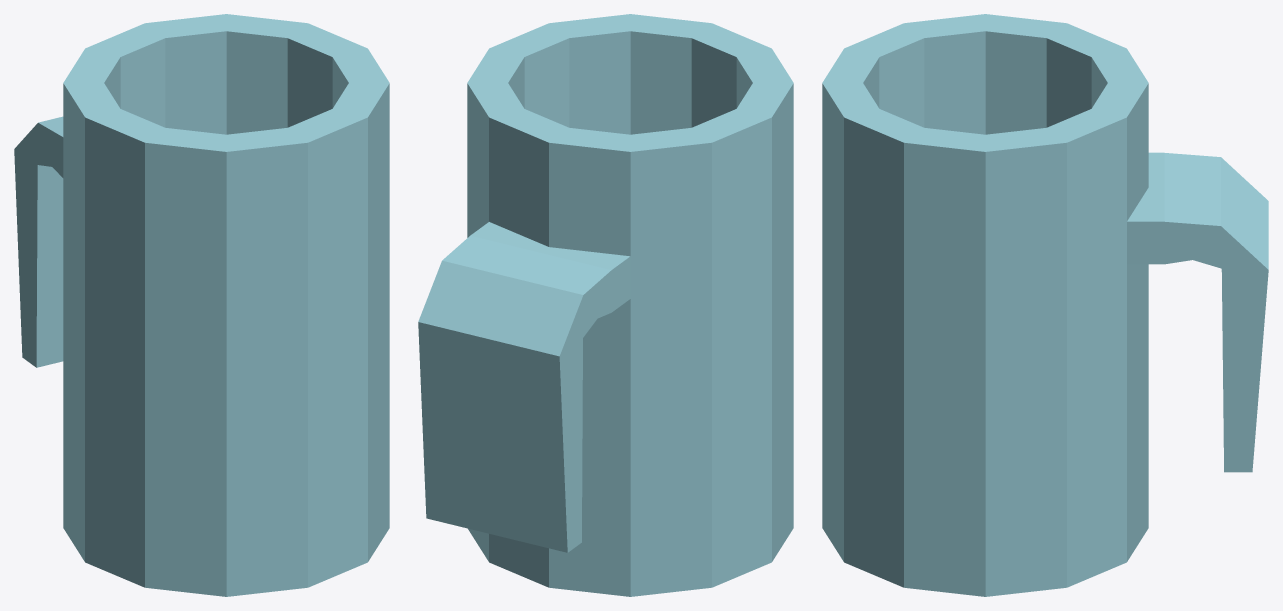
File: cup.fbx
3 renders of one model, left to right at view 1: azimuth 30°, elevation 25°; view 2: azimuth 150°, elevation 25°; view 3: azimuth 270°, elevation 25°, orthographic.
Visible parts, largest first — view 1: Circle; view 2: Circle; view 3: Circle.
Boxes of the visible parts, bbox=[...] form: Circle: bbox=[14, 14, 389, 596]; Circle: bbox=[418, 14, 793, 596]; Circle: bbox=[822, 14, 1268, 596].
Size of the model in its own units: 200 by 301 by 274.
